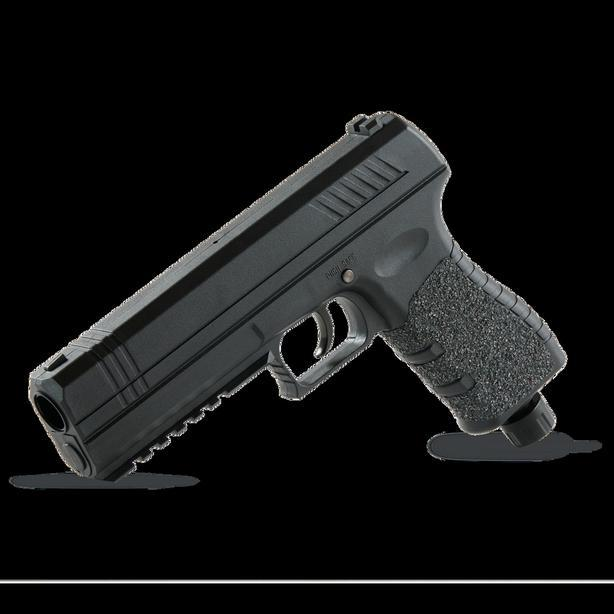Firearm: (12, 92, 578, 500)
